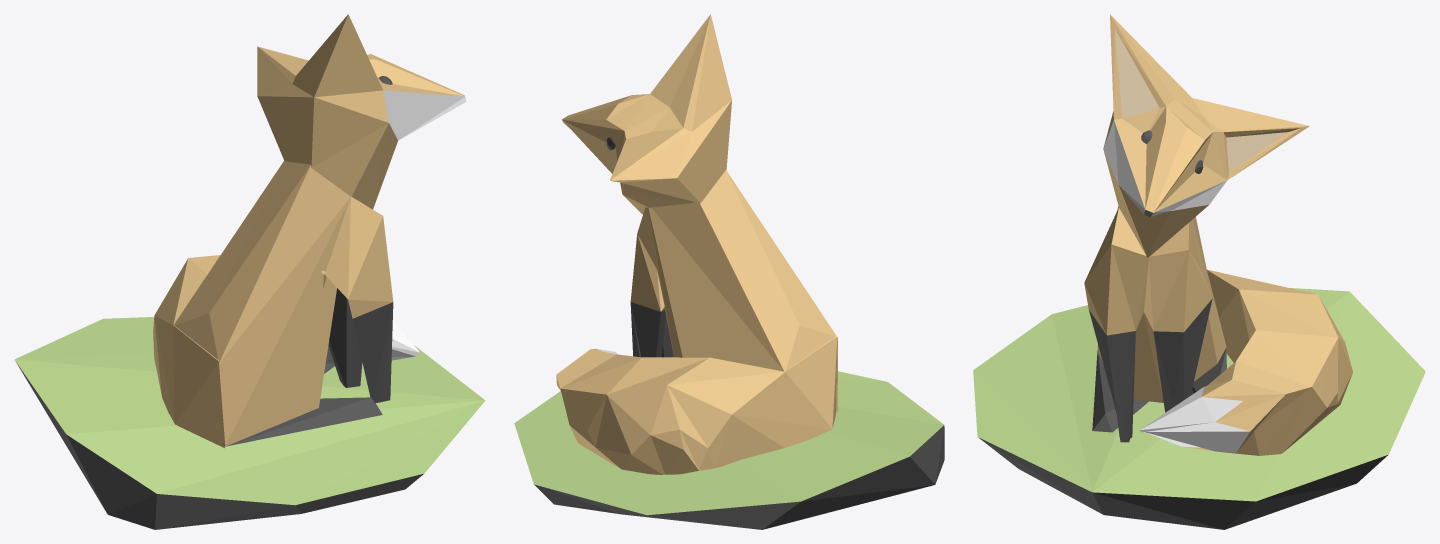
File: fox.glb
3 renders of one model, left to right at view 1: azimuth 30°, elevation 25°; view 2: azimuth 150°, elevation 25°; view 3: azimuth 270°, elevation 25°, orthographic. The views are drawn at different scales.
Visible parts, largest first — view 1: group1900056852, group500549351, group1054568923, group125599753; view 2: group1900056852, group125599753, group500549351, group1054568923; view 3: group1900056852, group125599753, group500549351, group1054568923.
Part boxes in pixels (box(x1,y1,x2,y2)): group1900056852: box(14, 317, 485, 529); group500549351: box(172, 161, 393, 446); group1054568923: box(257, 14, 466, 209); group125599753: box(153, 255, 419, 448); group1900056852: box(514, 371, 944, 529); group125599753: box(556, 336, 837, 474); group500549351: box(630, 170, 837, 412); group1054568923: box(562, 14, 731, 214); group1900056852: box(973, 288, 1425, 529); group125599753: box(1139, 269, 1352, 455); group500549351: box(1084, 206, 1226, 442); group1054568923: box(1103, 14, 1309, 257).
Bounding box in the file's own units: 0.6319 × 0.7129 × 0.6392.
